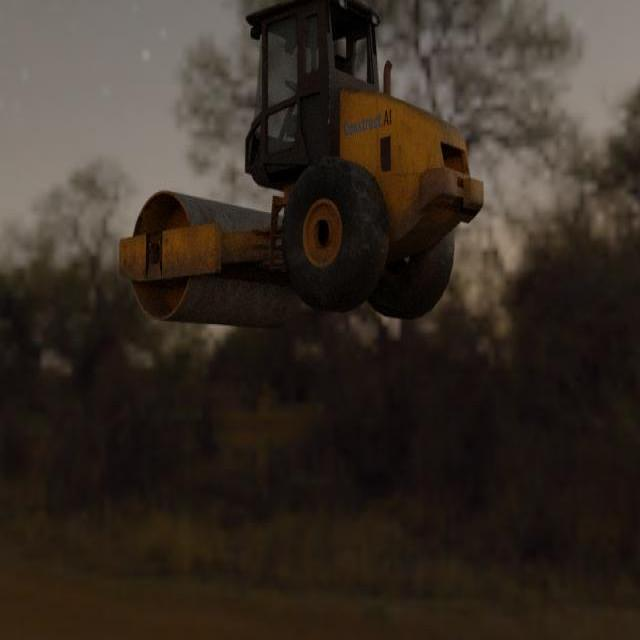Roller: (118, 0, 484, 331)
